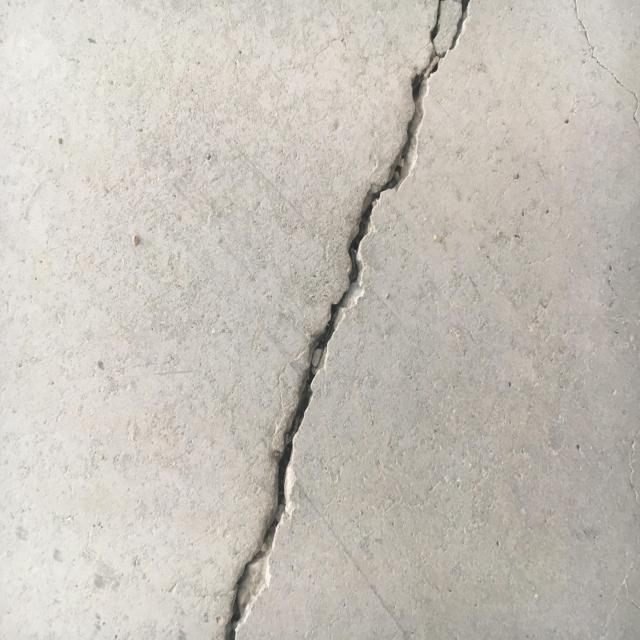SurfaceCrack: (192, 0, 494, 639)
